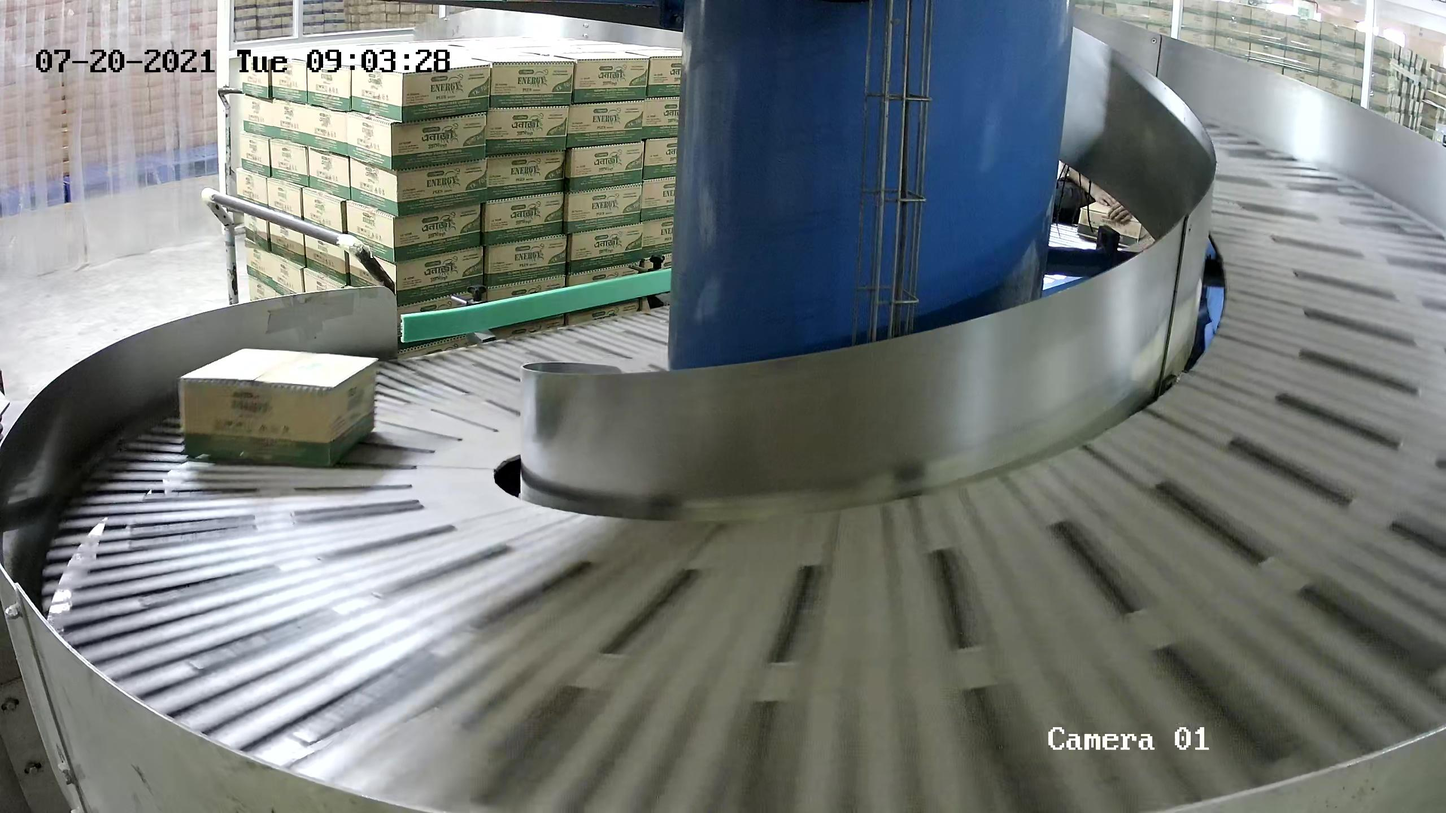Box: (176, 346, 381, 468)
